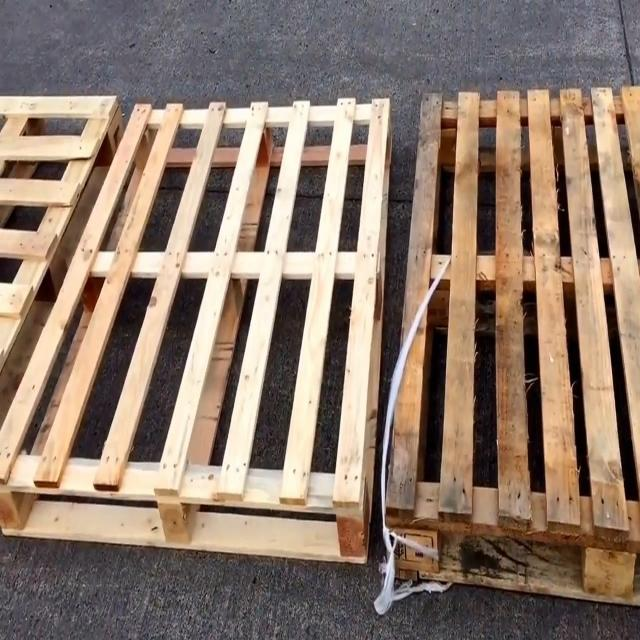Palette: (0, 89, 400, 563), (374, 72, 640, 630), (0, 89, 125, 398)
